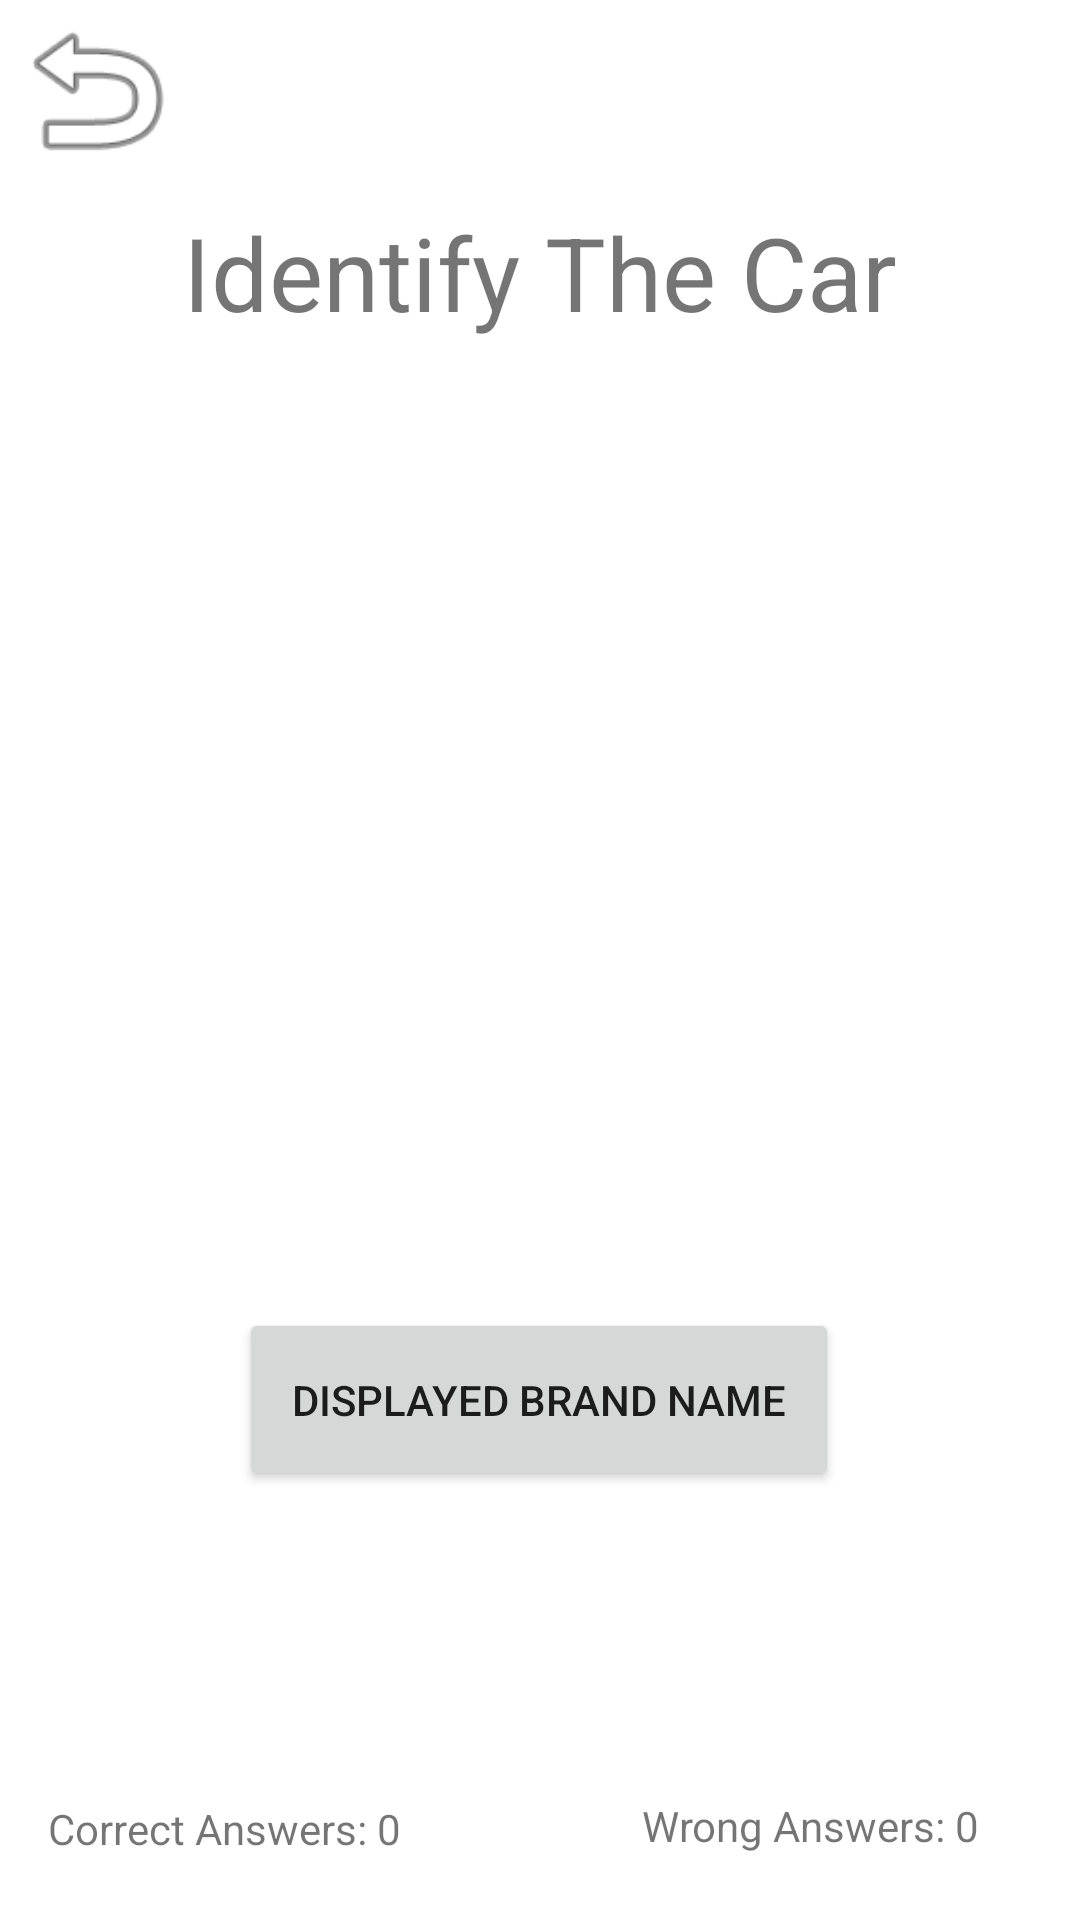

Icon bounding boxes for this 1080 x 1920 phone screenshot, format (x1, y1, x2, y2):
revert: (33, 32, 164, 150)
